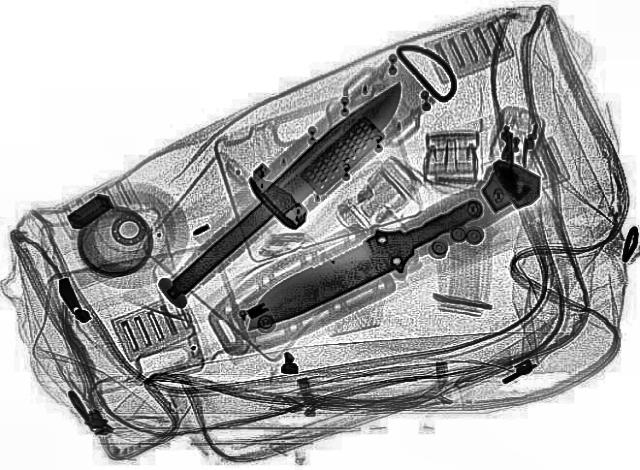Knife: (129, 62, 433, 322), (218, 177, 504, 348)
